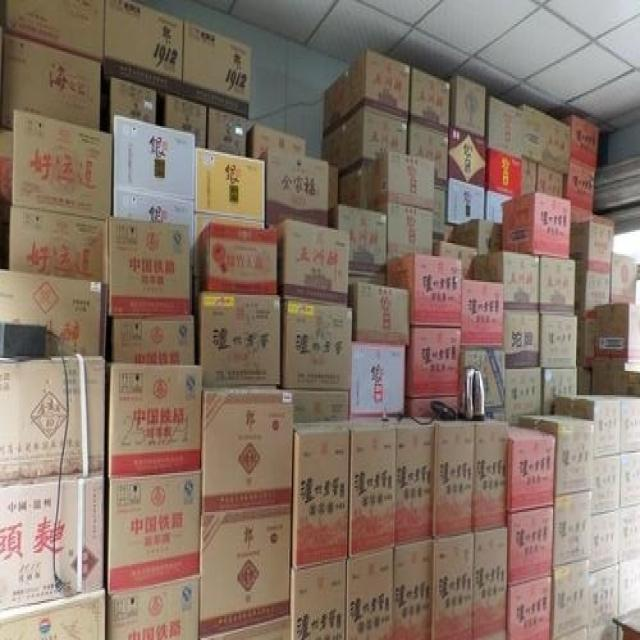box: (0, 471, 104, 610), (0, 356, 105, 480), (198, 505, 293, 640), (108, 469, 202, 594), (201, 388, 293, 514), (106, 364, 204, 479), (12, 111, 113, 217), (0, 32, 102, 130), (0, 271, 105, 356), (292, 421, 349, 568), (109, 219, 191, 317), (104, 0, 184, 96), (323, 48, 411, 135), (200, 293, 282, 386), (9, 206, 109, 282), (182, 20, 251, 119), (114, 115, 195, 198), (349, 421, 396, 560), (284, 299, 355, 390), (323, 100, 410, 174), (5, 0, 105, 63), (106, 575, 198, 640), (521, 414, 593, 497), (195, 221, 278, 293), (280, 223, 351, 304), (388, 254, 463, 326), (394, 417, 434, 545), (265, 148, 329, 228), (0, 592, 106, 640), (434, 421, 476, 538), (196, 150, 265, 221), (434, 532, 475, 640), (292, 562, 348, 640), (504, 191, 571, 256), (347, 549, 394, 640), (394, 538, 434, 640), (508, 427, 556, 512), (111, 317, 196, 364), (369, 150, 435, 210), (554, 395, 621, 454), (351, 345, 406, 416), (333, 204, 388, 275), (407, 326, 462, 395), (474, 527, 507, 640), (475, 419, 508, 532), (474, 252, 540, 308), (508, 506, 552, 588), (351, 284, 410, 345), (552, 490, 594, 568), (524, 106, 571, 173), (410, 117, 451, 186), (553, 560, 589, 638), (507, 575, 550, 640), (461, 282, 504, 345), (388, 204, 434, 260), (463, 347, 506, 406), (411, 70, 452, 130), (596, 304, 640, 358), (571, 217, 614, 271), (449, 128, 488, 187), (165, 95, 207, 148), (109, 76, 157, 122), (507, 369, 543, 427), (590, 510, 622, 573), (489, 95, 522, 156), (506, 308, 540, 367), (452, 76, 486, 135), (541, 314, 577, 369), (209, 106, 247, 158), (563, 115, 599, 169), (541, 256, 575, 312), (590, 566, 620, 627), (445, 180, 486, 224), (488, 147, 522, 198), (593, 456, 622, 514), (543, 367, 577, 416), (576, 267, 611, 314), (620, 558, 640, 616), (613, 254, 636, 304), (622, 397, 640, 454), (622, 506, 640, 562), (623, 454, 640, 506)
